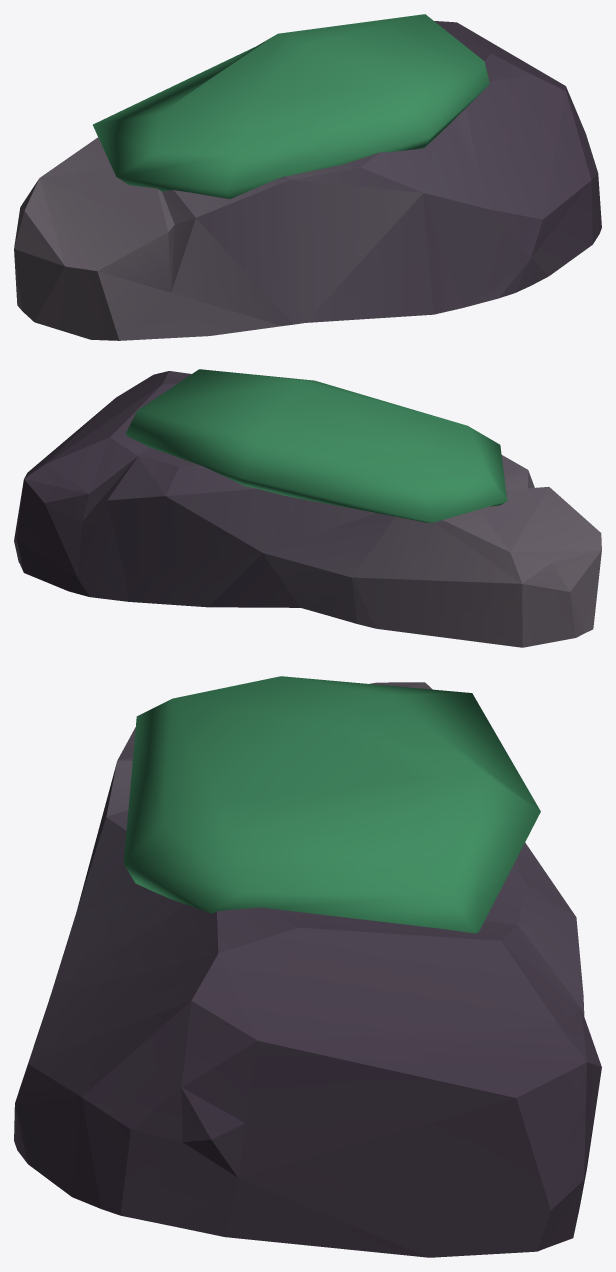
The model's file is Rock_03.fbx.
The picture shows the model from 3 angles, top to bottom: view 1: azimuth 30°, elevation 25°; view 2: azimuth 150°, elevation 25°; view 3: azimuth 270°, elevation 25°; orthographic projection. The views are drawn at different scales.
Parts seen in each view (by area): view 1: Floating_Rock_1_Big_0_1.017; view 2: Floating_Rock_1_Big_0_1.017; view 3: Floating_Rock_1_Big_0_1.017.
Boxes of the visible parts, x1,y1,x2,y2 form: Floating_Rock_1_Big_0_1.017: (14, 14, 601, 340); Floating_Rock_1_Big_0_1.017: (14, 369, 601, 647); Floating_Rock_1_Big_0_1.017: (14, 676, 601, 1257).
Size of the model in its own units: 371 by 121 by 212.
